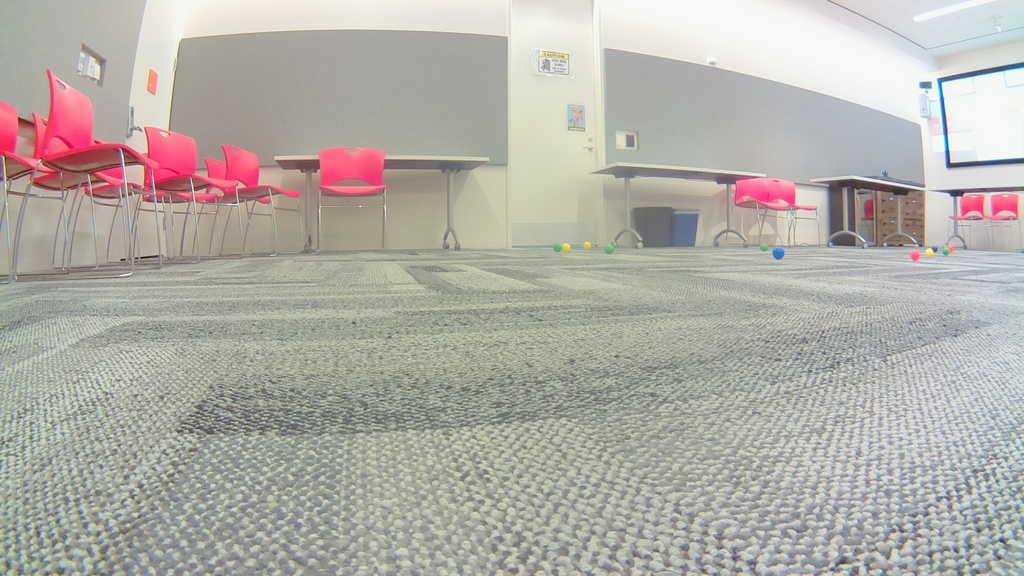ball: (908, 249, 920, 262)
